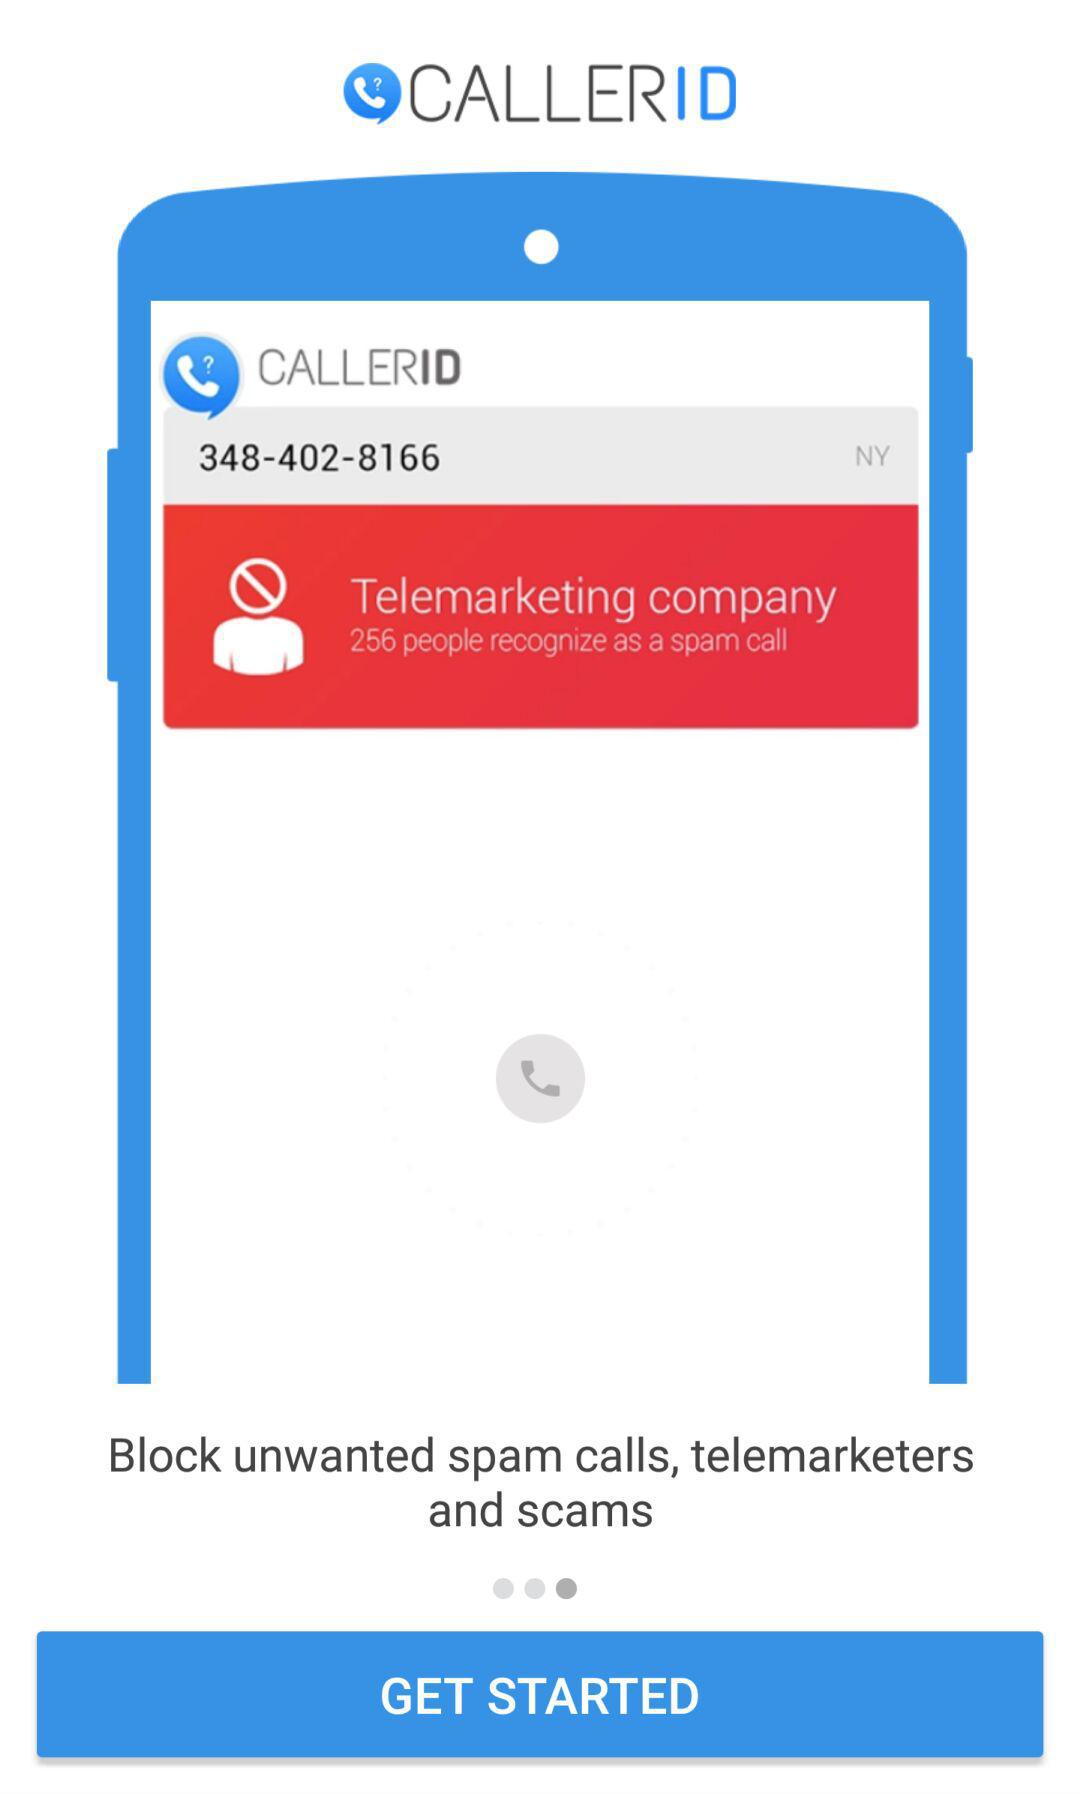Image: (108, 172, 974, 1384), (343, 63, 737, 127)
PageIndicator: (493, 1576, 579, 1601)
Text: (111, 1435, 975, 1529)
TextButton: (37, 1631, 1043, 1758)
